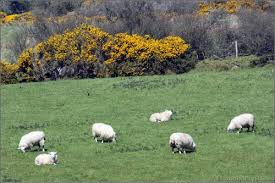sheep: (169, 130, 197, 157), (91, 121, 118, 146), (18, 130, 48, 152), (227, 113, 255, 135), (32, 149, 61, 168), (149, 108, 180, 125)
